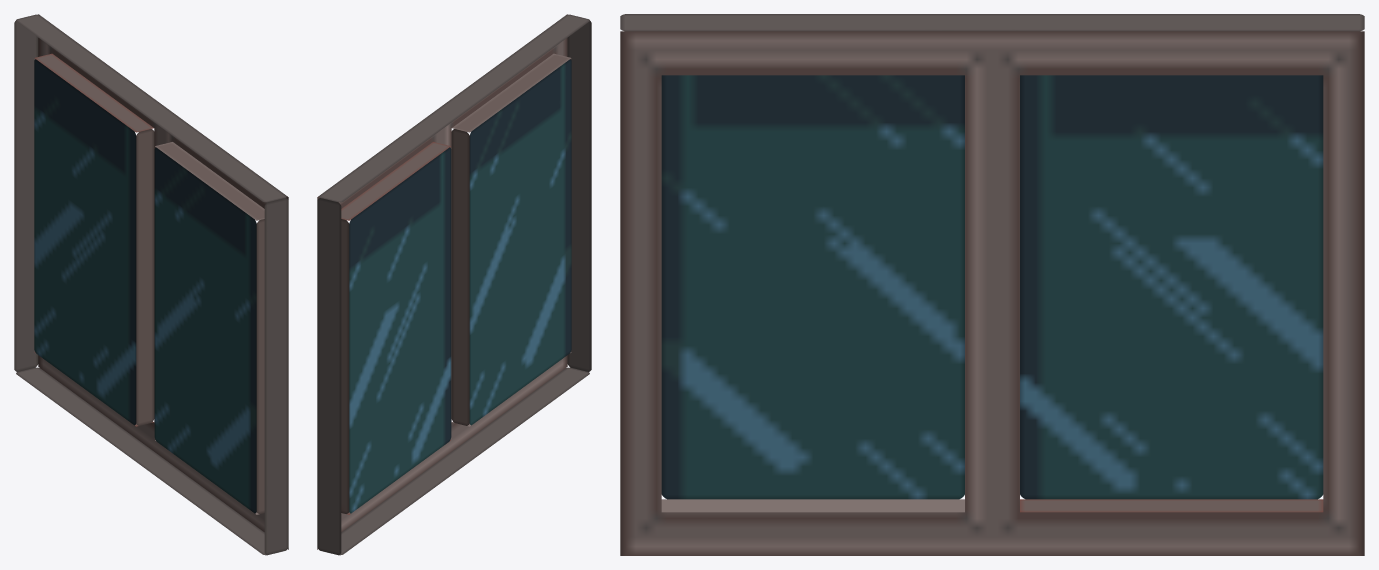
Rendered from WindowBrown2small.fbx.
3 renders of one model, left to right at view 1: azimuth 30°, elevation 25°; view 2: azimuth 150°, elevation 25°; view 3: azimuth 270°, elevation 25°, orthographic. The views are drawn at different scales.
Parts seen in each view (by area): view 1: plane; view 2: plane; view 3: plane.
Part boxes in pixels (x1,y1,x2,y2): plane: (14,14,288,555); plane: (317,14,591,555); plane: (620,14,1364,555).
Size of the model in its own units: 6.25 by 87.5 by 112.
Materials: 1 (1 with a texture image).
